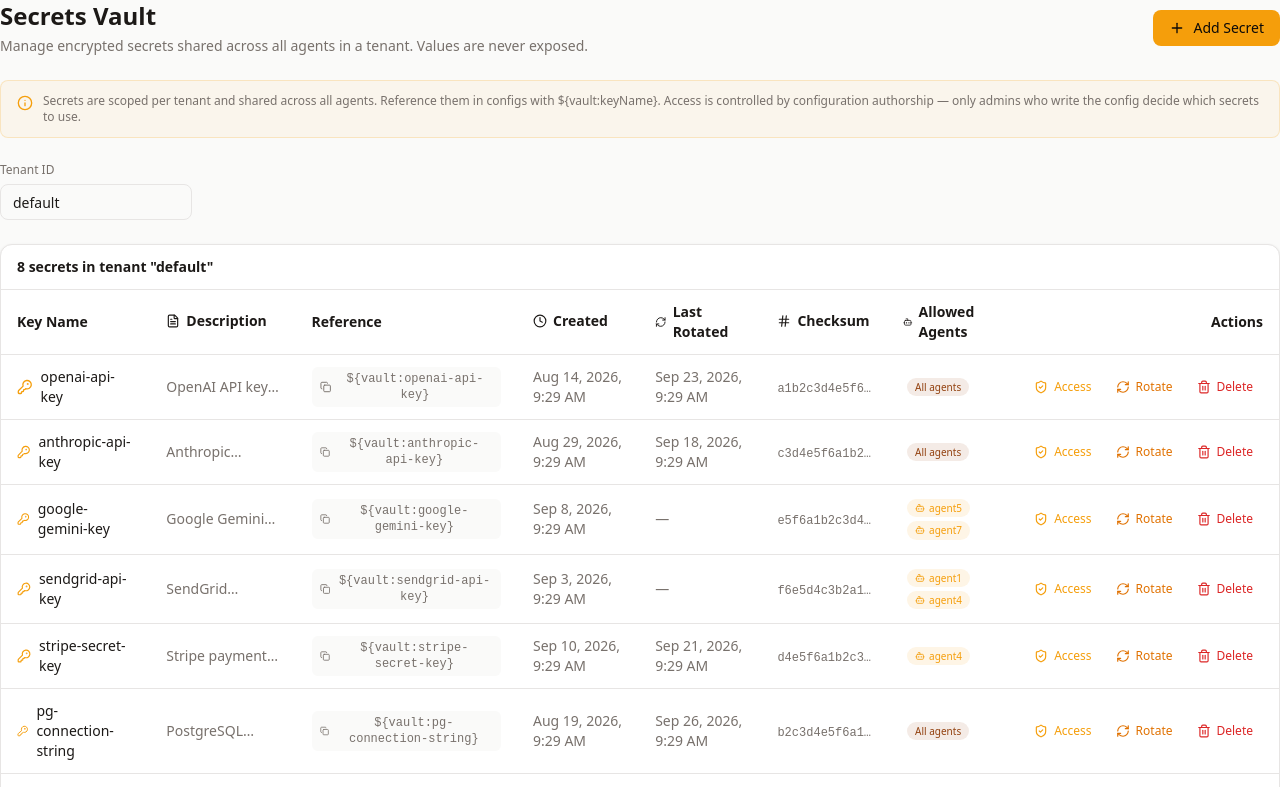
it: SecretsPage › confirm create button is disabled until key and value are entered
Click the button with test id "create-secret-button": [1217, 28] box [1153,10,1279,46]
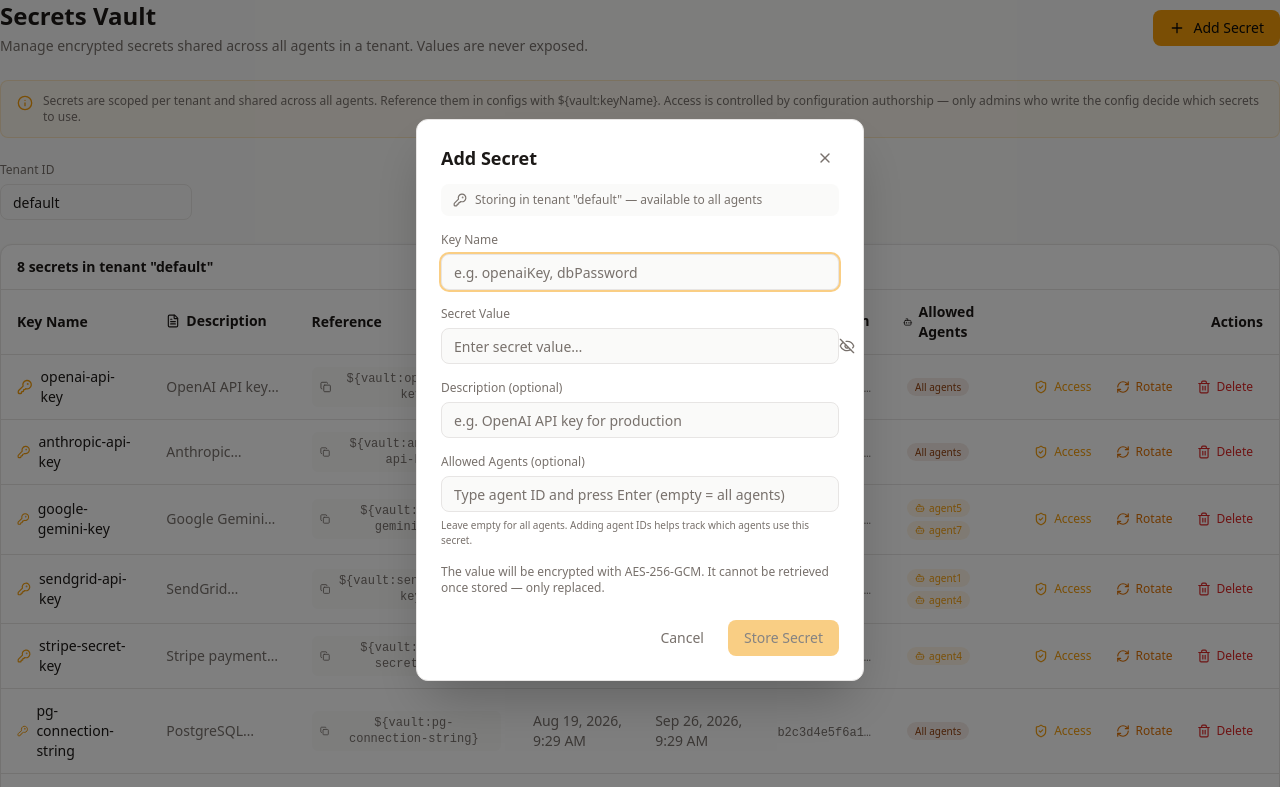
Now the button with test id "confirm-create-button" is disabled, box [728,620,839,656]
In the field with test id "new-key-input": [640, 272] box [441,254,839,290], type "mySecret"
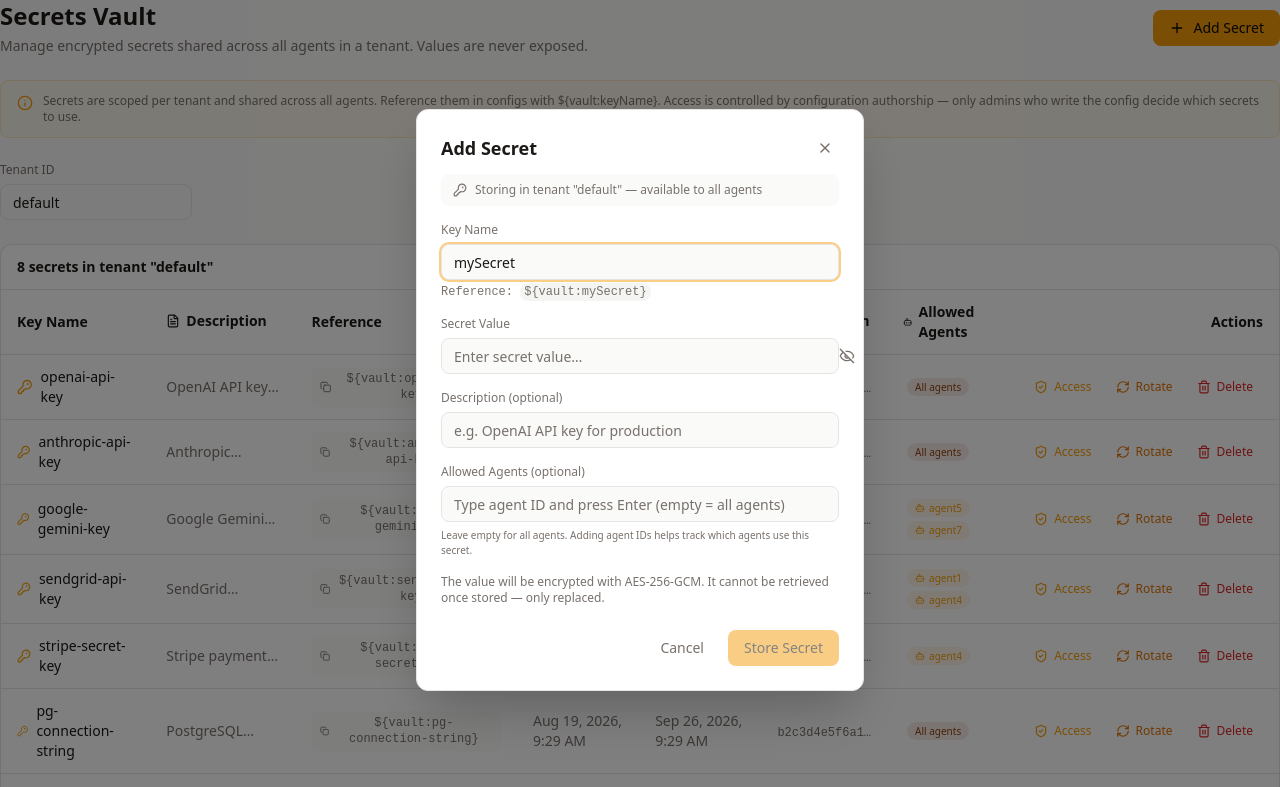
In the password field with test id "new-value-input": [640, 356] box [441,338,839,374], type "myValue"
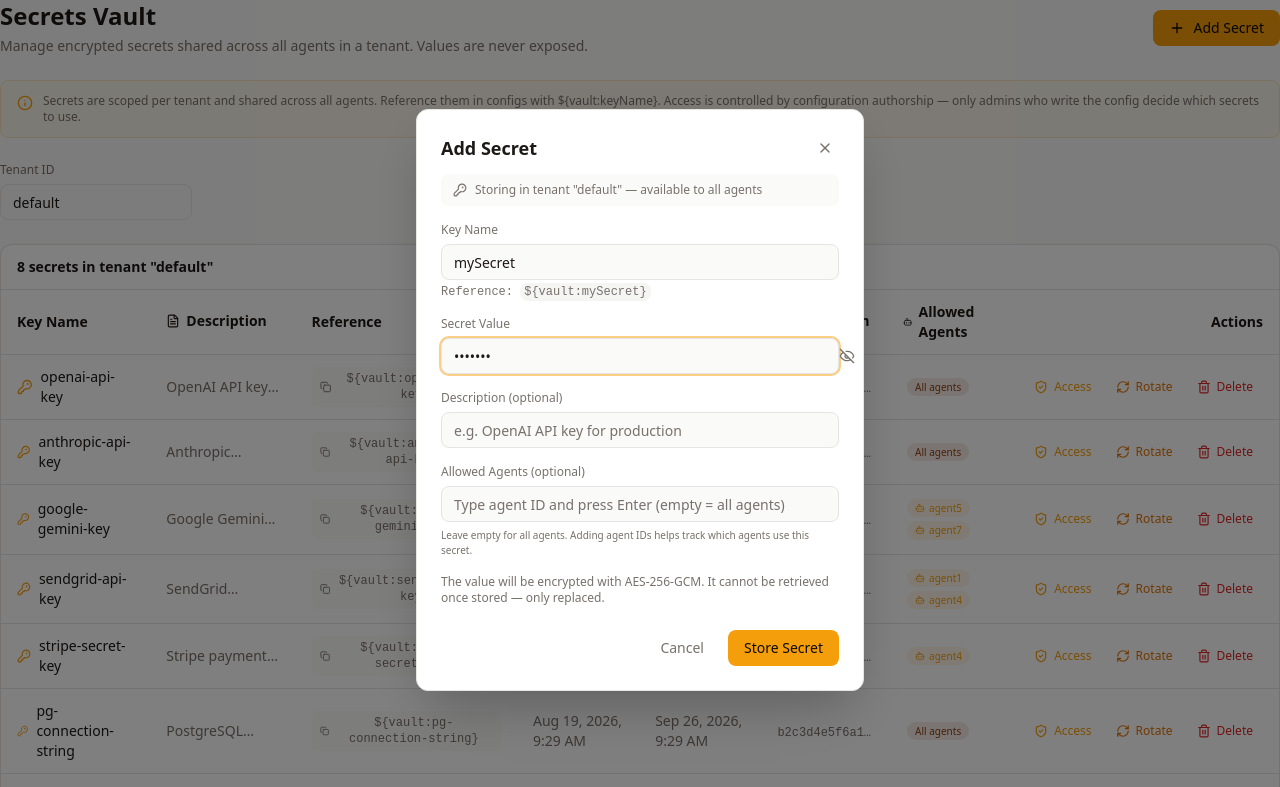
Now the button with test id "confirm-create-button" is enabled, box [728,630,839,666]
